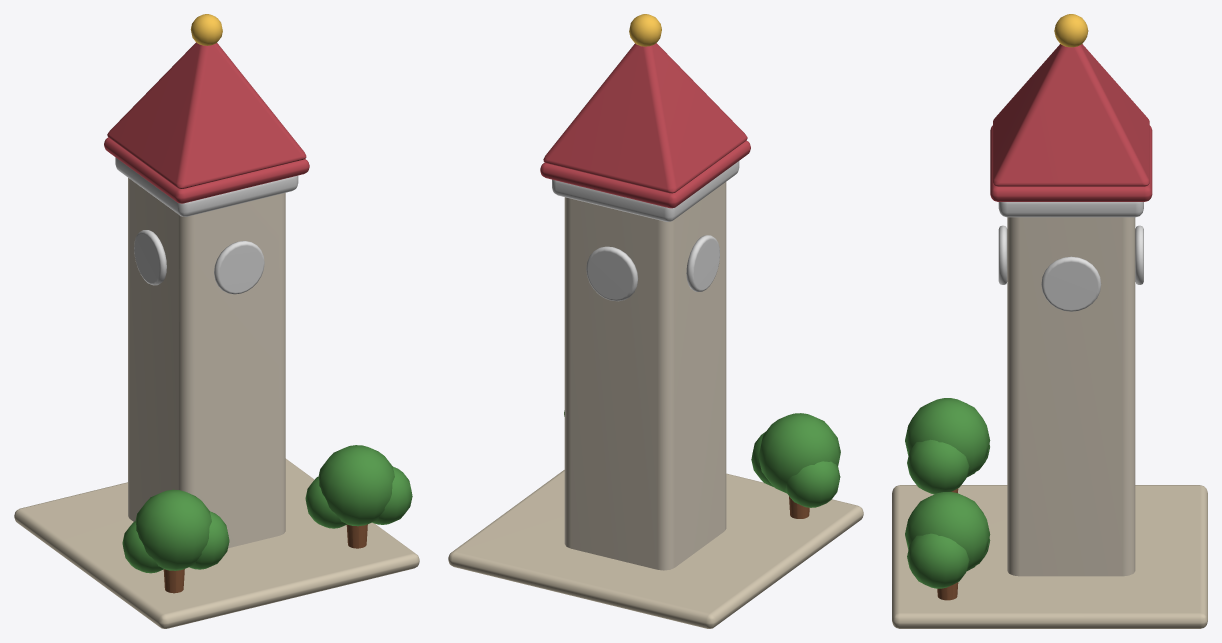
3 views of the same model, side by side, from view 1: azimuth 30°, elevation 25°; view 2: azimuth 150°, elevation 25°; view 3: azimuth 270°, elevation 25° (orthographic). The views are drawn at different scales.
Visible parts, largest first — view 1: Cube; view 2: Cube; view 3: Cube.
Part boxes in pixels (box(x1,y1,x2,y2)): Cube: box(14, 14, 419, 628); Cube: box(448, 14, 863, 628); Cube: box(892, 14, 1207, 628).
Bounding box in the file's own units: 0.7714 × 1.42 × 0.74.
